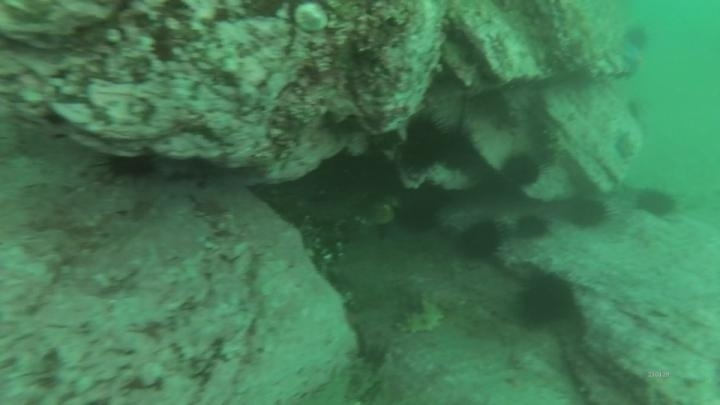echinus: (512, 268, 578, 331), (396, 111, 450, 173), (433, 122, 482, 176), (394, 184, 444, 235), (455, 218, 505, 263), (101, 150, 159, 182), (563, 193, 610, 231), (499, 151, 542, 190), (633, 186, 679, 221), (513, 212, 552, 243), (621, 23, 652, 53), (621, 92, 652, 122)
holothurian: (392, 294, 448, 338)
starfish: (611, 128, 638, 163)
